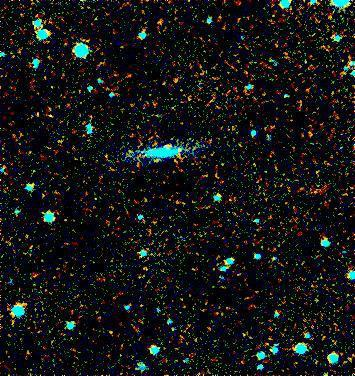star: (306, 356, 336, 376)
